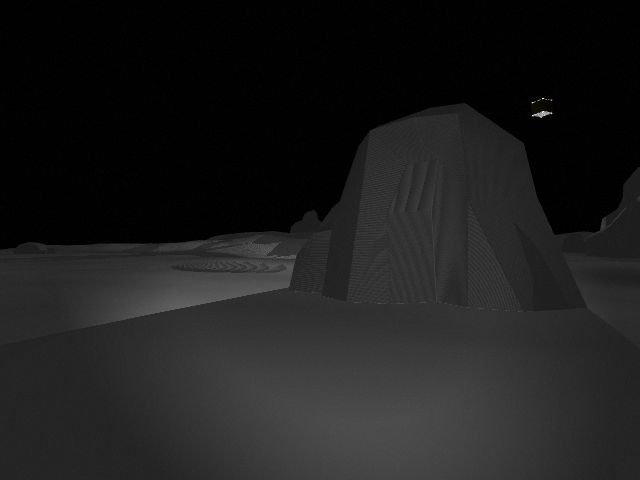cubesat: (528, 94, 555, 122)
